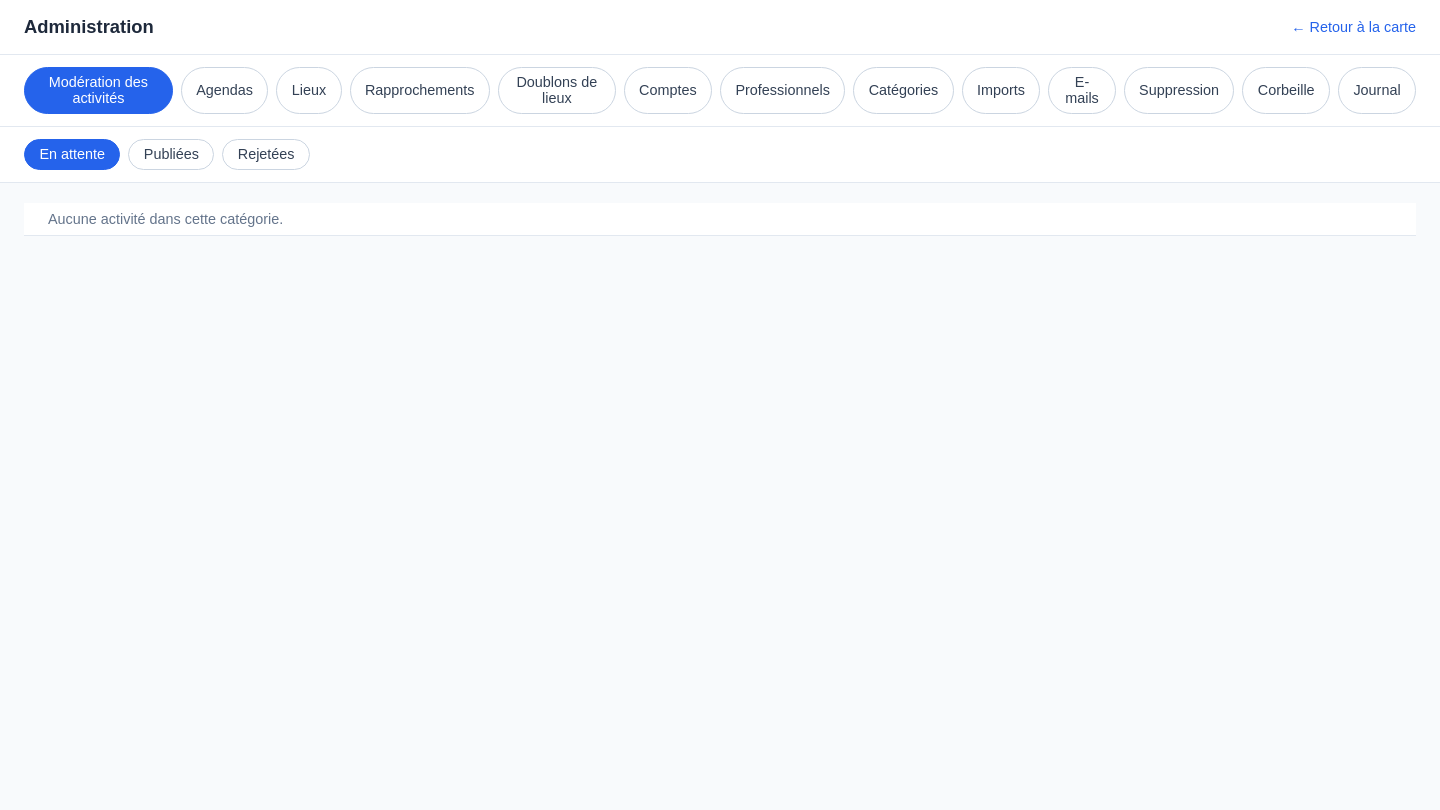
Scenario: AdminPage — recherche d'agendas › affiche tous les agendas sans recherche
Click the button "Agendas" at (225, 90), box [181, 67, 268, 114]
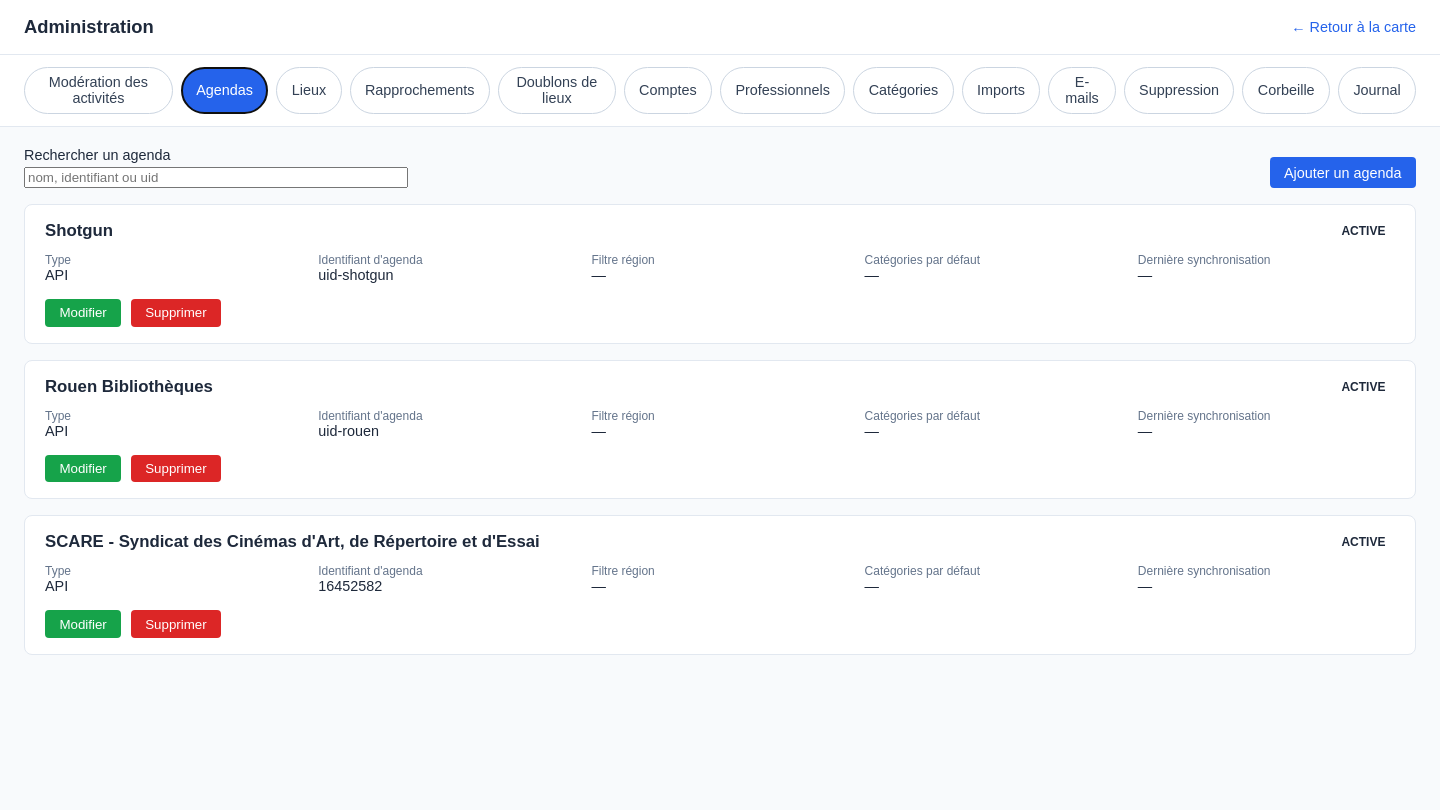
Now the heading "Shotgun" is shown, box [45, 221, 113, 241]
